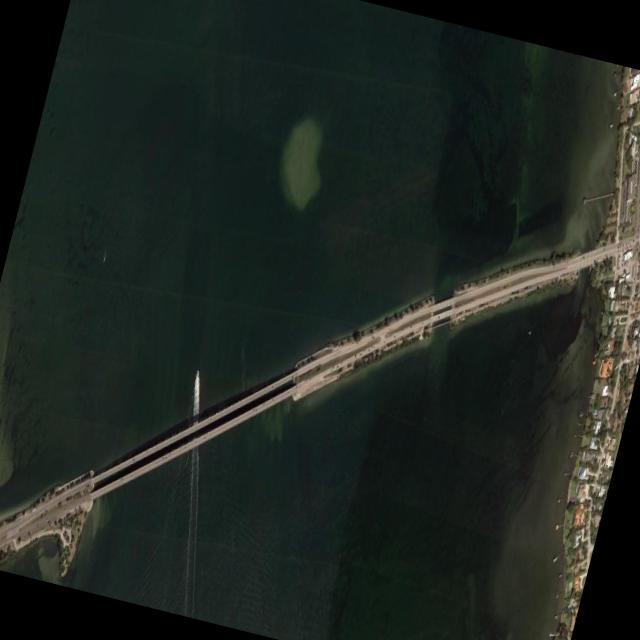ship: (193, 370, 199, 407)
